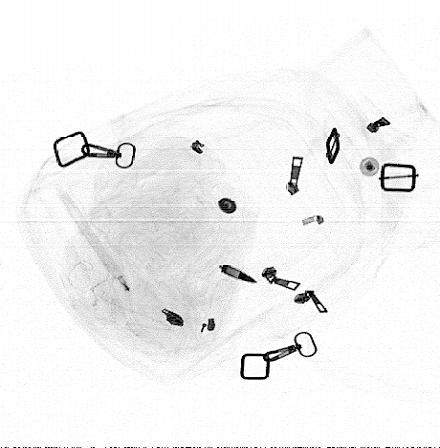Bullet: (219, 265, 258, 282)
